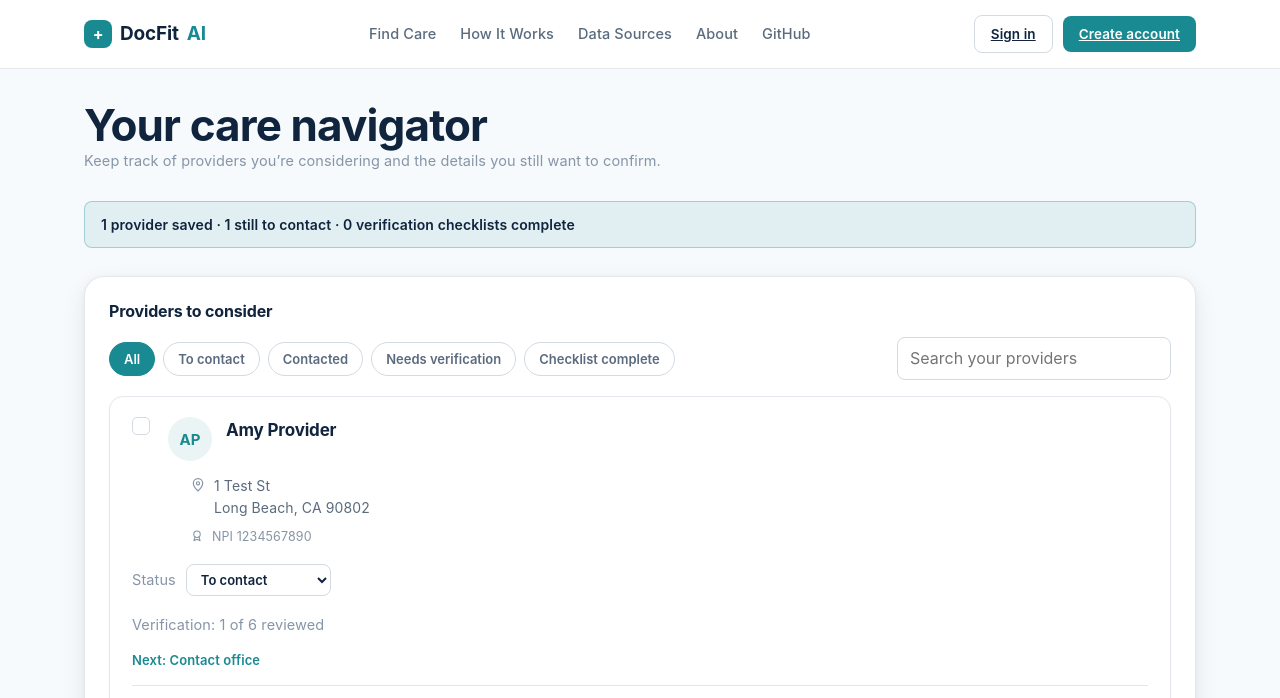
it: NavigatorPage › filters the provider list by status
Expected: the heading "Amy Provider" is shown, [226,420,336,440]
Click the button "Contacted". click: x=316, y=359
box: [268,342,363,376]
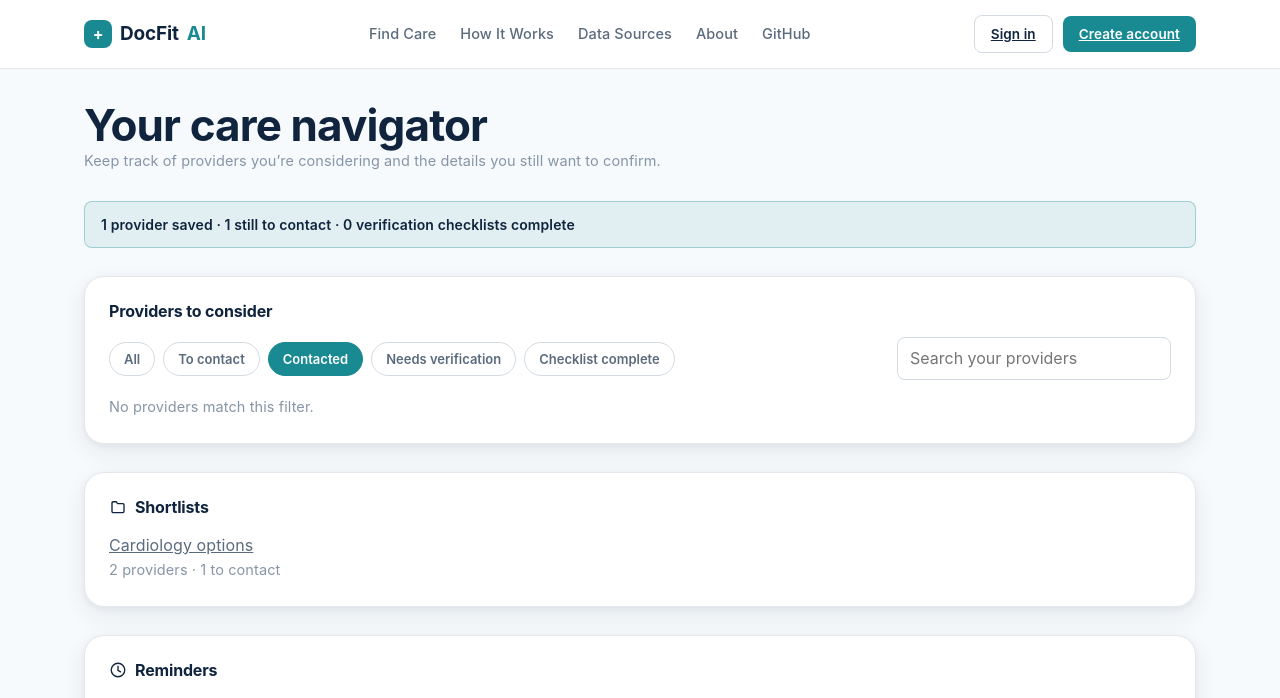
Now the heading "Amy Provider" is gone
Click the button "To contact". click: x=212, y=359
box: [163,342,260,376]
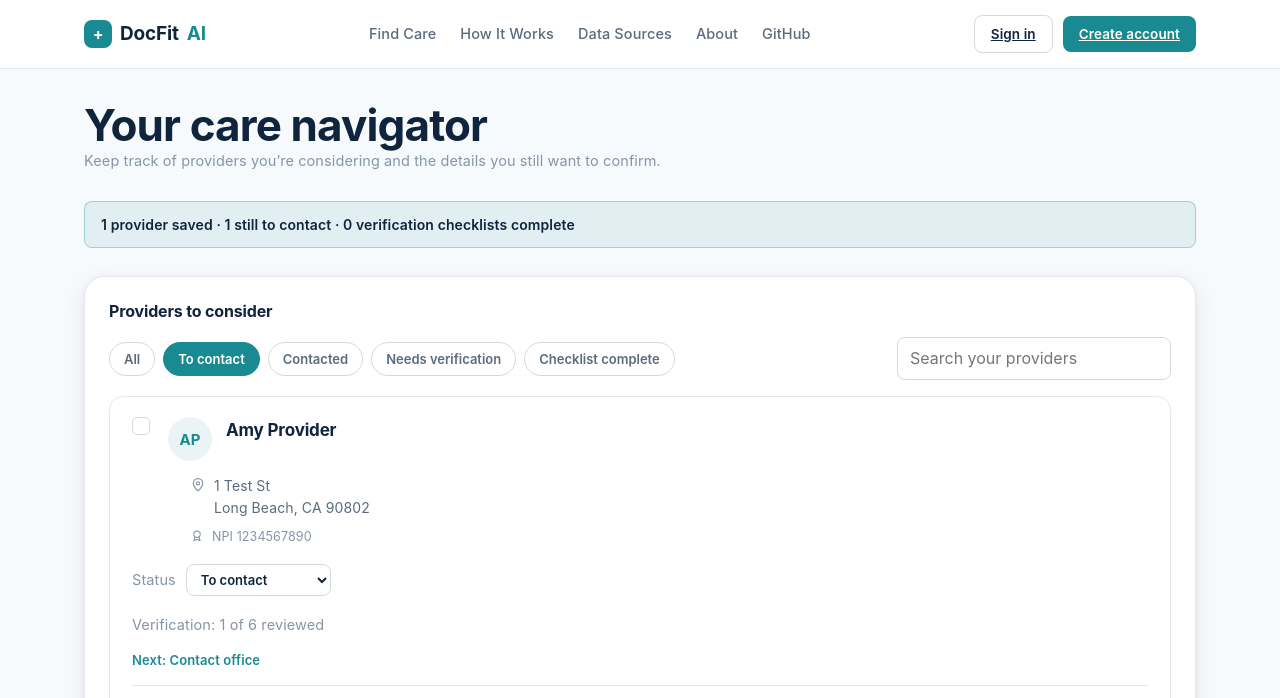
Now the heading "Amy Provider" is shown, box [226,420,336,440]
